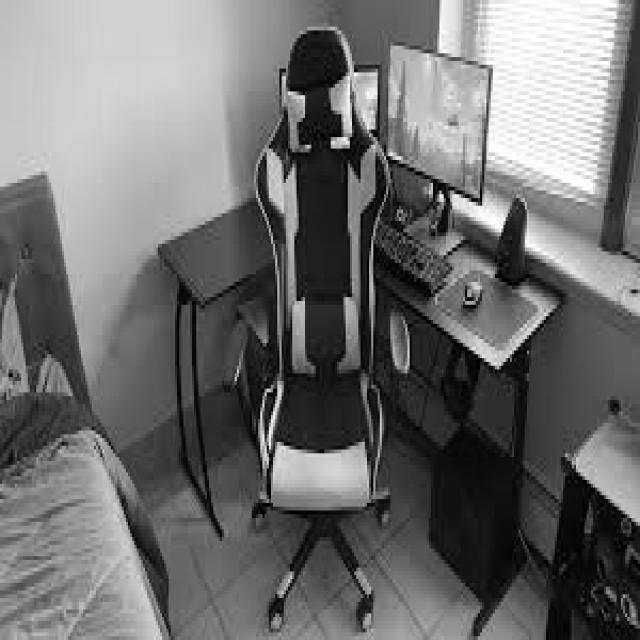chair: (218, 22, 409, 636)
